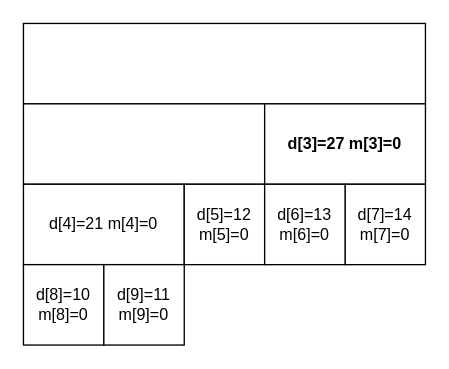
The diagram is 449 pixels wide and 369 high, and some of its shapes have lost their labels. Each missing label, with the centre of its shape:
"d[1]=60 m[1]=0" belongs at (x=223, y=63).
"d[2]=33 m[2]=0" belongs at (x=143, y=143).
